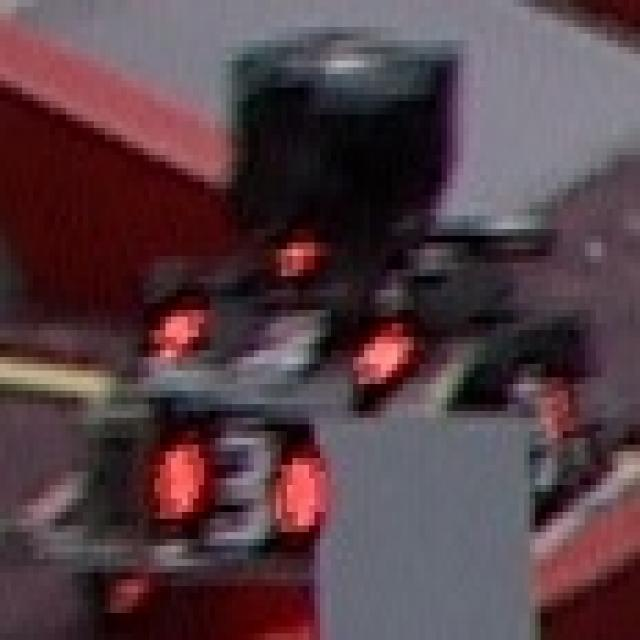R3: (138, 411, 320, 546)
